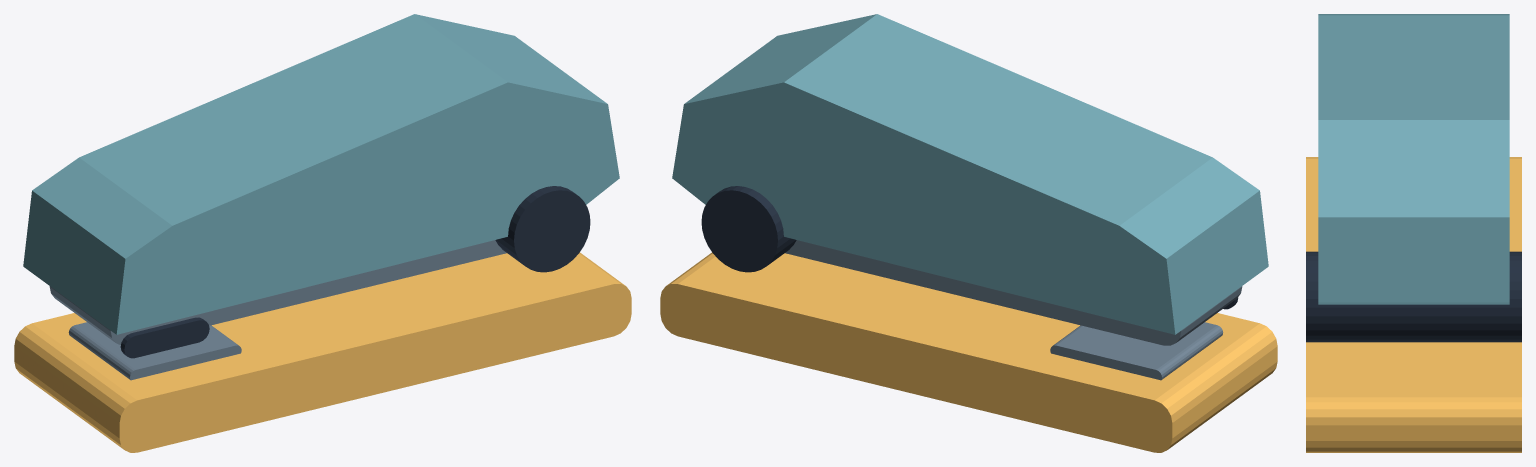
The model's file is nailer.glb.
3 views of the same model, side by side, from view 1: azimuth 30°, elevation 25°; view 2: azimuth 150°, elevation 25°; view 3: azimuth 270°, elevation 25° (orthographic). The views are drawn at different scales.
Parts seen in each view (by area): view 1: lever, base, hinge, magazine, anvil, paper notch; view 2: lever, base, magazine, hinge, anvil; view 3: lever, base, hinge.
Part boxes in pixels (x1,y1,x2,y2): lever: (23,14,619,334); base: (14,252,631,452); hinge: (495,186,590,272); magazine: (49,240,506,345); anvil: (68,322,241,380); paper notch: (120,317,209,358); lever: (672,14,1268,334); base: (660,252,1277,452); magazine: (785,240,1242,345); hinge: (701,186,796,272); anvil: (1050,322,1223,380); lever: (1318,14,1509,304); base: (1306,157,1521,452); hinge: (1306,251,1521,342).
Bounding box in the file's own units: 1.74 × 0.89 × 0.62.
